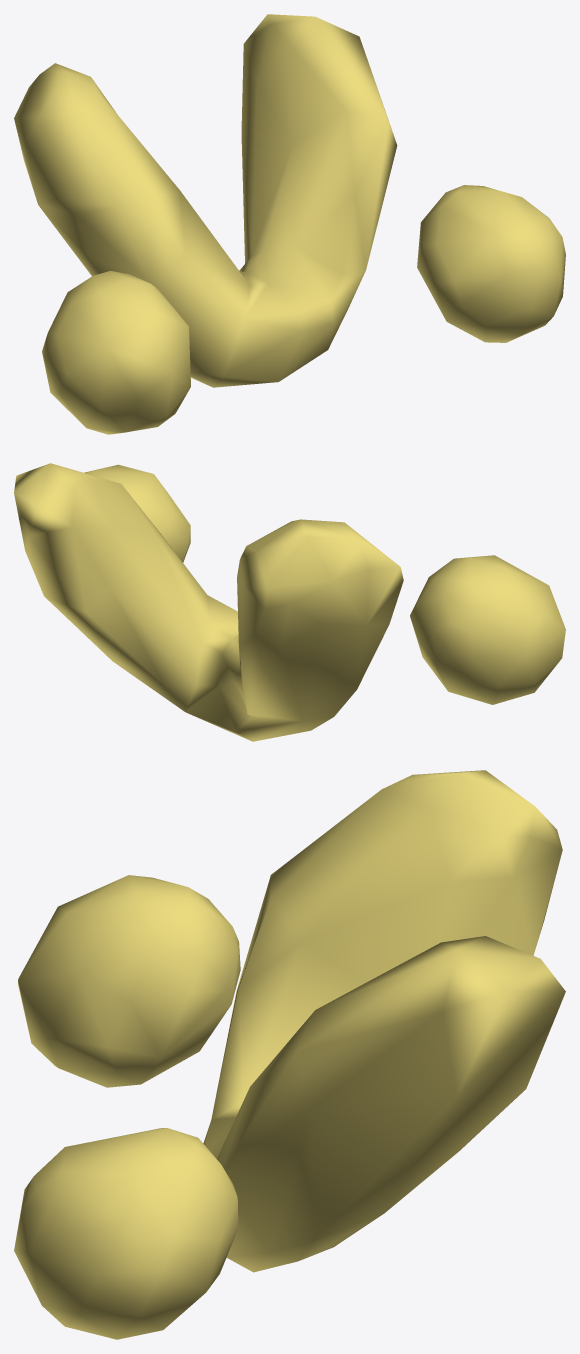
File: habenula.glb
3 renders of one model, top to bottom at view 1: azimuth 30°, elevation 25°; view 2: azimuth 150°, elevation 25°; view 3: azimuth 270°, elevation 25°, orthographic. The views are drawn at different scales.
Visible parts, largest first — view 1: Habenula; view 2: Habenula; view 3: Habenula.
Boxes of the visible parts, x1,y1,x2,y2 form: Habenula: (14, 14, 565, 434); Habenula: (14, 463, 565, 741); Habenula: (14, 770, 565, 1339).
Bounding box in the file's own units: 0.00735 × 0.00402 × 0.00501.
